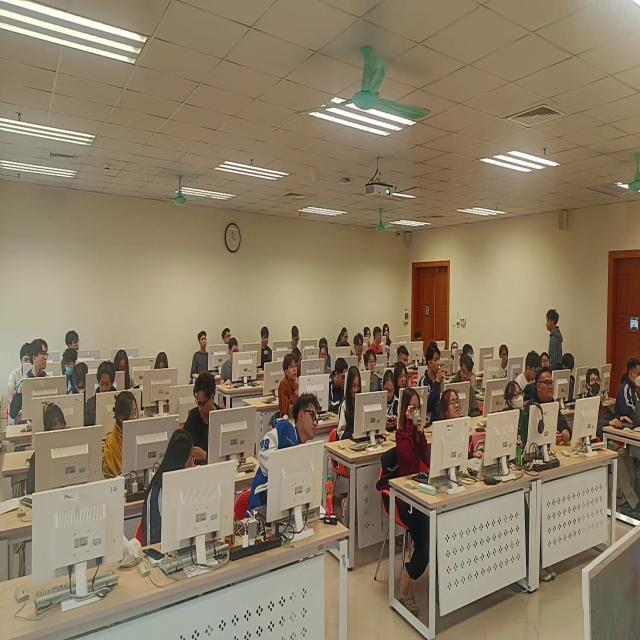raise_hand: (418, 344, 449, 417)
raise_head: (391, 384, 434, 507), (579, 364, 613, 441), (532, 364, 564, 444), (504, 375, 530, 445), (278, 348, 301, 418), (439, 385, 466, 441), (192, 327, 216, 378), (362, 350, 383, 404), (448, 340, 464, 382), (496, 343, 511, 384), (351, 335, 366, 373), (221, 326, 234, 351), (383, 324, 393, 348), (540, 353, 552, 372)
stand: (544, 306, 567, 390)
using_computer: (26, 400, 75, 499), (336, 365, 367, 455), (615, 351, 640, 459), (85, 362, 117, 427), (512, 347, 540, 413), (8, 342, 35, 407), (324, 353, 350, 415), (113, 345, 139, 397), (221, 337, 241, 394), (66, 363, 90, 409), (560, 350, 582, 397), (150, 348, 172, 391), (395, 359, 412, 413), (258, 324, 275, 370), (394, 341, 415, 373), (412, 327, 430, 362), (335, 325, 354, 355), (462, 345, 478, 379), (289, 323, 304, 357), (317, 347, 331, 380), (290, 343, 305, 369), (361, 324, 373, 351), (319, 337, 330, 351)
using_phone: (378, 372, 403, 445)
